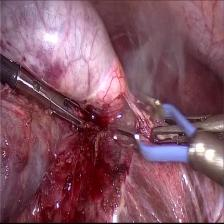Bipolar: (110, 86, 196, 162)
Grasper: (11, 66, 102, 142), (150, 97, 224, 142)
